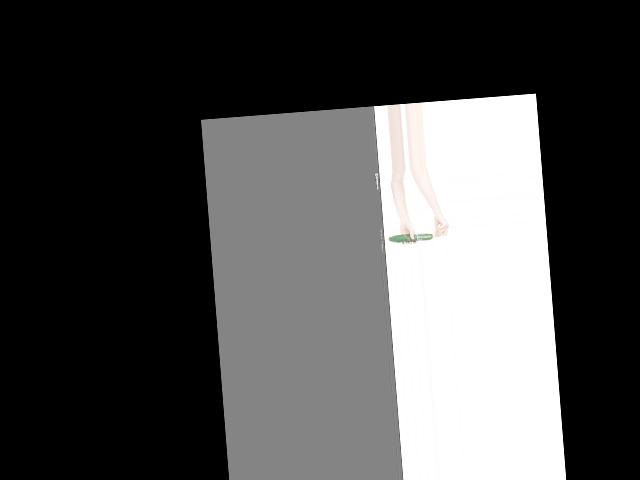cucumber: (387, 233, 433, 243)
